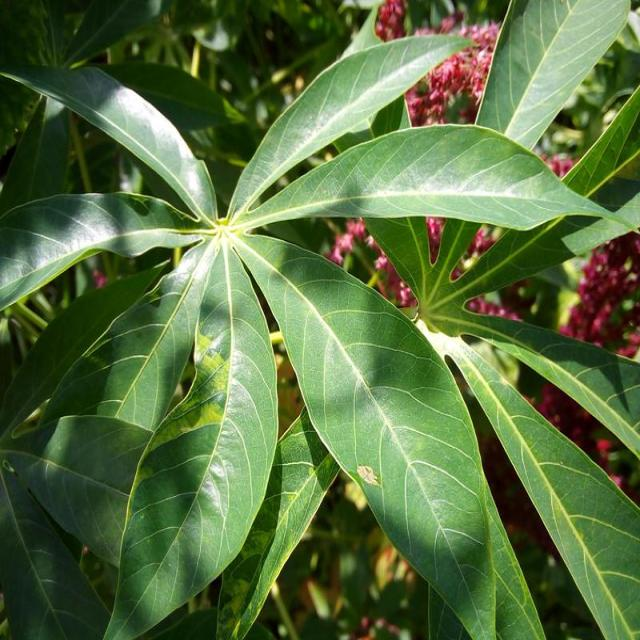cassava leaf: (2, 2, 640, 638), (247, 236, 547, 638)
